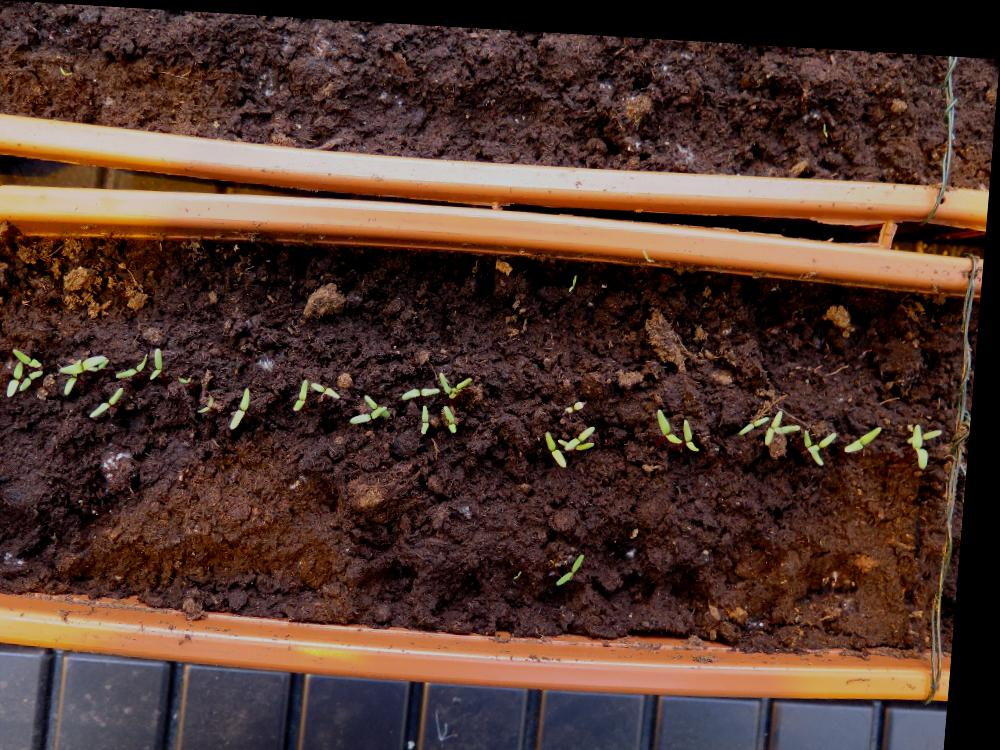crop: (94, 381, 130, 417), (848, 412, 888, 443), (119, 348, 154, 379), (659, 399, 689, 435), (236, 380, 256, 426), (406, 377, 446, 396), (687, 407, 708, 441), (314, 375, 348, 394), (298, 372, 314, 408), (446, 396, 464, 427), (154, 342, 169, 379), (567, 389, 594, 409), (201, 390, 220, 410), (425, 397, 437, 428), (181, 370, 199, 381)
weed: (564, 542, 593, 580), (571, 264, 581, 285), (821, 111, 829, 128), (520, 560, 531, 571)
